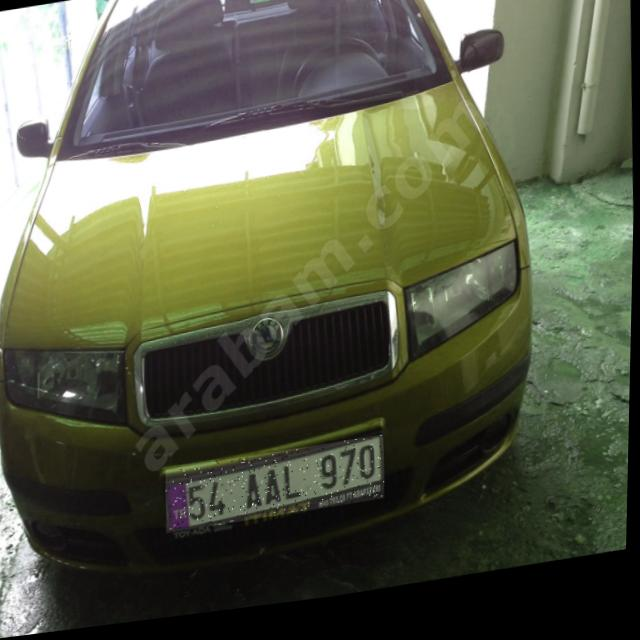license_plate: (166, 444, 388, 538)
